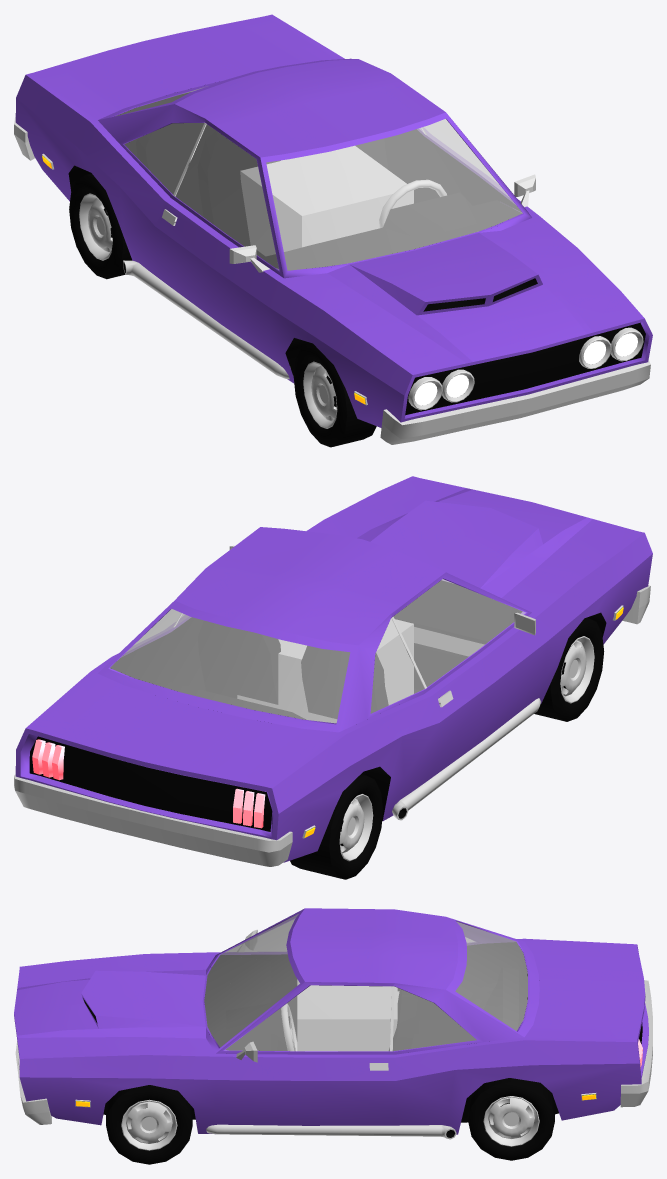
File: car_purple.glb
3 renders of one model, top to bottom at view 1: azimuth 30°, elevation 25°; view 2: azimuth 150°, elevation 25°; view 3: azimuth 270°, elevation 25°, orthographic. The views are drawn at different scales.
Visible parts, largest first — view 1: Object_4, Cube, Object_6, Object_13, Object_8; view 2: Object_4, Cube, Object_6, Object_13, Object_7; view 3: Object_4, Cube, Object_6, Object_13.
Boxes of the visible parts, left/top/right/bottom form: Object_4: left=15, top=14, right=652, bottom=427; Cube: left=68, top=92, right=645, bottom=447; Object_6: left=117, top=86, right=522, bottom=270; Object_13: left=14, top=117, right=650, bottom=444; Object_8: left=414, top=333, right=637, bottom=405; Object_4: left=15, top=476, right=652, bottom=862; Cube: left=29, top=580, right=606, bottom=879; Object_6: left=110, top=579, right=525, bottom=723; Object_13: left=14, top=545, right=650, bottom=866; Object_7: left=32, top=739, right=265, bottom=828; Object_4: left=14, top=908, right=648, bottom=1134; Cube: left=83, top=942, right=642, bottom=1164; Object_6: left=204, top=914, right=527, bottom=1051; Object_13: left=15, top=929, right=652, bottom=1150.
Size of the model in its own units: 5.46 by 3.6 by 12.16.
7 materials, 7 textured.
